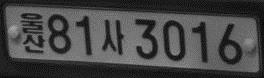0: (162, 19, 187, 62)
1: (72, 14, 94, 56), (190, 19, 210, 65)
3: (131, 17, 159, 60)
6: (217, 22, 244, 65)
8: (46, 13, 72, 53)
사: (99, 18, 126, 56)
울산_V: (19, 11, 46, 54)
